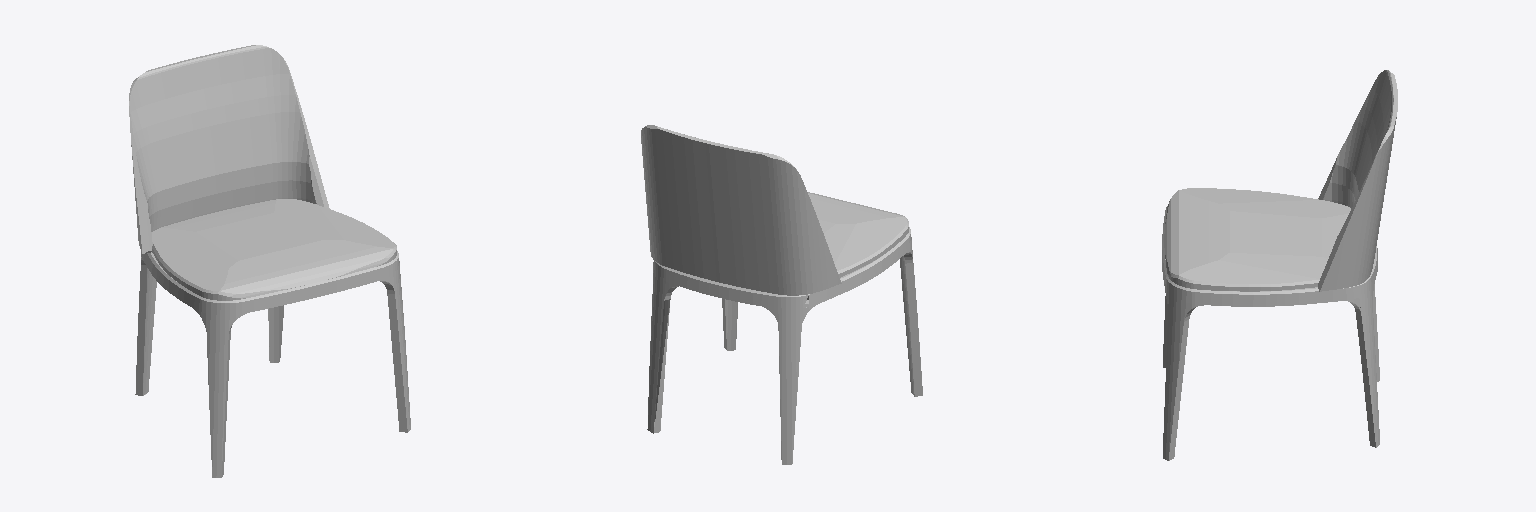
File: chair12.objscaled.obj
3 views of the same model, side by side, from view 1: azimuth 30°, elevation 25°; view 2: azimuth 150°, elevation 25°; view 3: azimuth 270°, elevation 25° (orthographic).
Bounding box in the file's own units: 0.8772 × 1.29 × 0.8857.